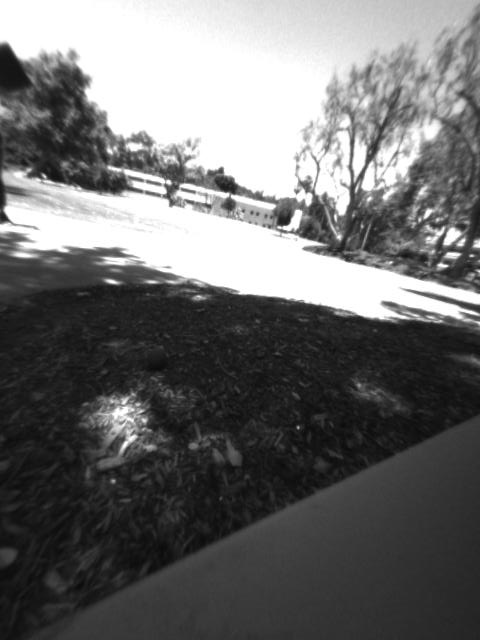dogtoy: (140, 343, 174, 371)
